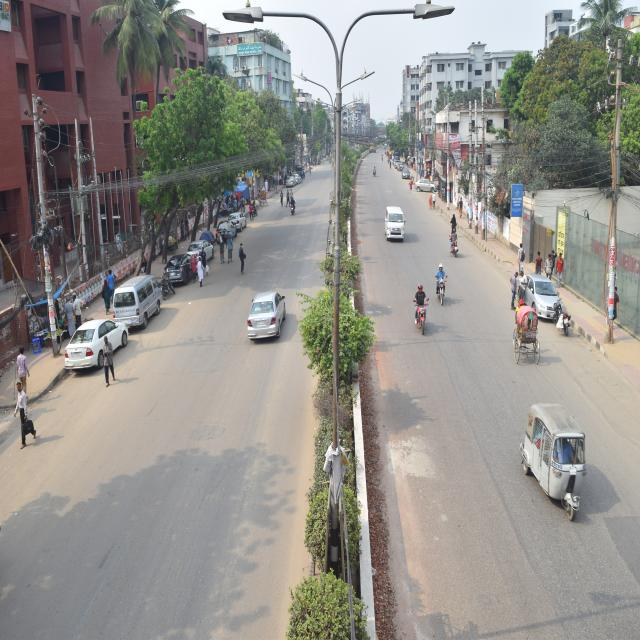car: (66, 314, 128, 380), (236, 287, 292, 344), (513, 270, 566, 325), (158, 242, 197, 292), (186, 236, 216, 271), (222, 207, 246, 234), (414, 176, 438, 196)
microbus: (110, 275, 171, 332), (381, 201, 410, 247)
motorbike: (552, 291, 575, 344), (411, 279, 432, 336), (431, 270, 454, 310), (444, 222, 463, 255), (285, 197, 301, 220)
